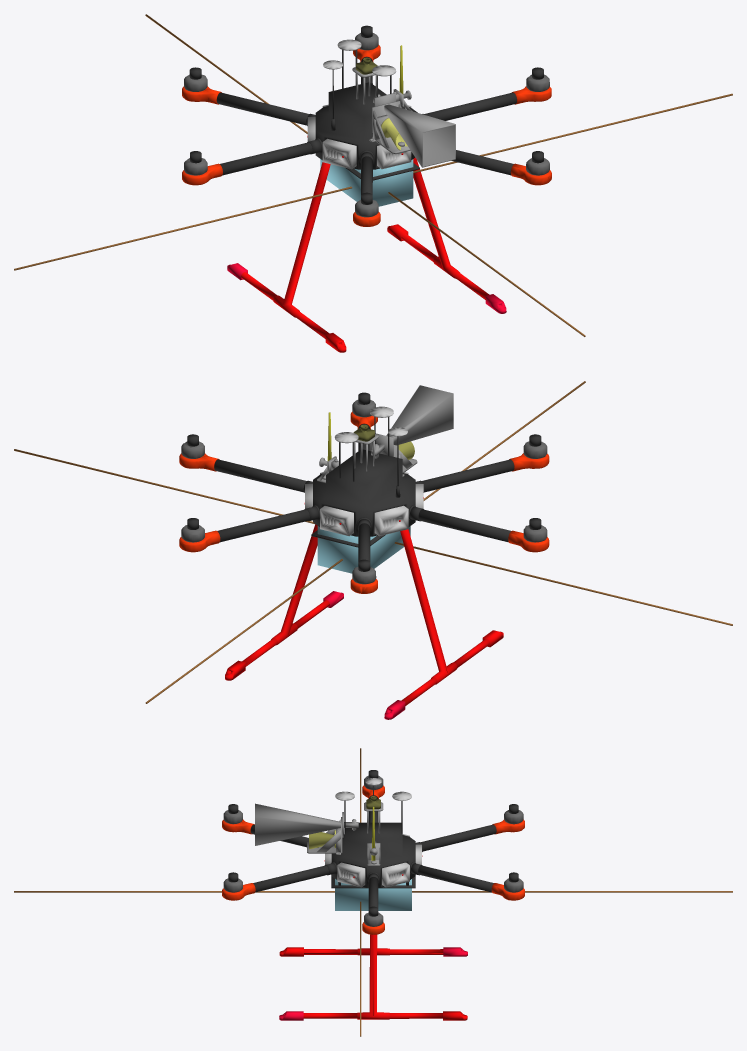
File: drone.obj
3 renders of one model, top to bottom at view 1: azimuth 30°, elevation 25°; view 2: azimuth 150°, elevation 25°; view 3: azimuth 270°, elevation 25°, orthographic. The views are drawn at different scales.
Parts seen in each view (by area): view 1: 5D4818082309BDBD074B611E6EC3893A1521EE6F___B8A4396250C5687B1D31E, CFCA541D1FAFC286C946C3F51F9C9B8B62BEFAB9___ADAFBC7721E9FC85F0544, 4B855C2AD1C1681E1B7CBEC5A2151AB289290E08___B8A4396250C5687B1D31E, 69BE07D5F52732A44F93A088D9E2D1910F671D61___3F635CC986B490470081D, Box001, CFCA541D1FAFC286C946C3F51F9C9B8B62BEFAB9___00CBCD260F7AD547B0453, CFCA541D1FAFC286C946C3F51F9C9B8B62BEFAB9___5202D544965E7EFF185BA, CFCA541D1FAFC286C946C3F51F9C9B8B62BEFAB9___4D3B6645B5F7200F518E6, CFCA541D1FAFC286C946C3F51F9C9B8B62BEFAB9___28387D0369687A6205D08, 65A518D130AD085ABB224F659E81CD44FA49E442___C906BBC760572095F726B, CFCA541D1FAFC286C946C3F51F9C9B8B62BEFAB9___5FA4BE3775B3DDAC7A88E, CFCA541D1FAFC286C946C3F51F9C9B8B62BEFAB9___70BDC5443E6F8752CFDB7; view 2: CFCA541D1FAFC286C946C3F51F9C9B8B62BEFAB9___ADAFBC7721E9FC85F0544, 5D4818082309BDBD074B611E6EC3893A1521EE6F___B8A4396250C5687B1D31E, 4B855C2AD1C1681E1B7CBEC5A2151AB289290E08___B8A4396250C5687B1D31E, 69BE07D5F52732A44F93A088D9E2D1910F671D61___3F635CC986B490470081D, Box001, CFCA541D1FAFC286C946C3F51F9C9B8B62BEFAB9___00CBCD260F7AD547B0453, CFCA541D1FAFC286C946C3F51F9C9B8B62BEFAB9___4D3B6645B5F7200F518E6, CFCA541D1FAFC286C946C3F51F9C9B8B62BEFAB9___A8C803C49122BDFCAA535, CFCA541D1FAFC286C946C3F51F9C9B8B62BEFAB9___8D2972270AF900137B422, 65A518D130AD085ABB224F659E81CD44FA49E442___C906BBC760572095F726B, CFCA541D1FAFC286C946C3F51F9C9B8B62BEFAB9___D99890D287313244053D8, CFCA541D1FAFC286C946C3F51F9C9B8B62BEFAB9___71831D5C925036FB279A8; view 3: 5D4818082309BDBD074B611E6EC3893A1521EE6F___B8A4396250C5687B1D31E, CFCA541D1FAFC286C946C3F51F9C9B8B62BEFAB9___ADAFBC7721E9FC85F0544, 69BE07D5F52732A44F93A088D9E2D1910F671D61___3F635CC986B490470081D, Box001, 4B855C2AD1C1681E1B7CBEC5A2151AB289290E08___B8A4396250C5687B1D31E, CFCA541D1FAFC286C946C3F51F9C9B8B62BEFAB9___8D2972270AF900137B422, CFCA541D1FAFC286C946C3F51F9C9B8B62BEFAB9___5FA4BE3775B3DDAC7A88E, CFCA541D1FAFC286C946C3F51F9C9B8B62BEFAB9___5202D544965E7EFF185BA, 65A518D130AD085ABB224F659E81CD44FA49E442___C906BBC760572095F726B, CFCA541D1FAFC286C946C3F51F9C9B8B62BEFAB9___776D9ADAE1F4458BE32F6, CFCA541D1FAFC286C946C3F51F9C9B8B62BEFAB9___B8A4396250C5687B1D31E.
Part boxes in pixels (x1,y1,x2,y2): 5D4818082309BDBD074B611E6EC3893A1521EE6F___B8A4396250C5687B1D31E: [227, 157, 506, 352]; CFCA541D1FAFC286C946C3F51F9C9B8B62BEFAB9___ADAFBC7721E9FC85F0544: [315, 82, 417, 169]; 4B855C2AD1C1681E1B7CBEC5A2151AB289290E08___B8A4396250C5687B1D31E: [14, 14, 732, 336]; 69BE07D5F52732A44F93A088D9E2D1910F671D61___3F635CC986B490470081D: [384, 104, 455, 167]; Box001: [320, 159, 413, 206]; CFCA541D1FAFC286C946C3F51F9C9B8B62BEFAB9___00CBCD260F7AD547B0453: [220, 142, 312, 175]; CFCA541D1FAFC286C946C3F51F9C9B8B62BEFAB9___5202D544965E7EFF185BA: [216, 92, 309, 125]; CFCA541D1FAFC286C946C3F51F9C9B8B62BEFAB9___4D3B6645B5F7200F518E6: [424, 92, 516, 120]; CFCA541D1FAFC286C946C3F51F9C9B8B62BEFAB9___28387D0369687A6205D08: [322, 138, 356, 169]; 65A518D130AD085ABB224F659E81CD44FA49E442___C906BBC760572095F726B: [189, 25, 543, 204]; CFCA541D1FAFC286C946C3F51F9C9B8B62BEFAB9___5FA4BE3775B3DDAC7A88E: [451, 150, 513, 175]; CFCA541D1FAFC286C946C3F51F9C9B8B62BEFAB9___70BDC5443E6F8752CFDB7: [377, 145, 411, 169]; CFCA541D1FAFC286C946C3F51F9C9B8B62BEFAB9___ADAFBC7721E9FC85F0544: [313, 449, 415, 536]; 5D4818082309BDBD074B611E6EC3893A1521EE6F___B8A4396250C5687B1D31E: [225, 524, 503, 719]; 4B855C2AD1C1681E1B7CBEC5A2151AB289290E08___B8A4396250C5687B1D31E: [14, 381, 732, 703]; 69BE07D5F52732A44F93A088D9E2D1910F671D61___3F635CC986B490470081D: [386, 385, 453, 445]; Box001: [317, 526, 410, 573]; CFCA541D1FAFC286C946C3F51F9C9B8B62BEFAB9___00CBCD260F7AD547B0453: [418, 509, 510, 542]; CFCA541D1FAFC286C946C3F51F9C9B8B62BEFAB9___4D3B6645B5F7200F518E6: [214, 459, 306, 492]; CFCA541D1FAFC286C946C3F51F9C9B8B62BEFAB9___A8C803C49122BDFCAA535: [422, 459, 514, 492]; CFCA541D1FAFC286C946C3F51F9C9B8B62BEFAB9___8D2972270AF900137B422: [217, 509, 309, 542]; 65A518D130AD085ABB224F659E81CD44FA49E442___C906BBC760572095F726B: [187, 392, 541, 571]; CFCA541D1FAFC286C946C3F51F9C9B8B62BEFAB9___D99890D287313244053D8: [374, 505, 408, 536]; CFCA541D1FAFC286C946C3F51F9C9B8B62BEFAB9___71831D5C925036FB279A8: [320, 506, 353, 536]; 5D4818082309BDBD074B611E6EC3893A1521EE6F___B8A4396250C5687B1D31E: [279, 934, 467, 1020]; CFCA541D1FAFC286C946C3F51F9C9B8B62BEFAB9___ADAFBC7721E9FC85F0544: [331, 822, 415, 887]; 69BE07D5F52732A44F93A088D9E2D1910F671D61___3F635CC986B490470081D: [255, 803, 340, 845]; Box001: [335, 879, 411, 910]; 4B855C2AD1C1681E1B7CBEC5A2151AB289290E08___B8A4396250C5687B1D31E: [14, 748, 732, 1036]; CFCA541D1FAFC286C946C3F51F9C9B8B62BEFAB9___8D2972270AF900137B422: [418, 865, 493, 892]; CFCA541D1FAFC286C946C3F51F9C9B8B62BEFAB9___5FA4BE3775B3DDAC7A88E: [253, 865, 328, 892]; CFCA541D1FAFC286C946C3F51F9C9B8B62BEFAB9___5202D544965E7EFF185BA: [421, 824, 496, 851]; 65A518D130AD085ABB224F659E81CD44FA49E442___C906BBC760572095F726B: [228, 770, 518, 916]; CFCA541D1FAFC286C946C3F51F9C9B8B62BEFAB9___776D9ADAE1F4458BE32F6: [337, 862, 365, 887]; CFCA541D1FAFC286C946C3F51F9C9B8B62BEFAB9___B8A4396250C5687B1D31E: [382, 862, 409, 887].
Bounding box in the file's own units: 82.6 × 26.11 × 87.4.
